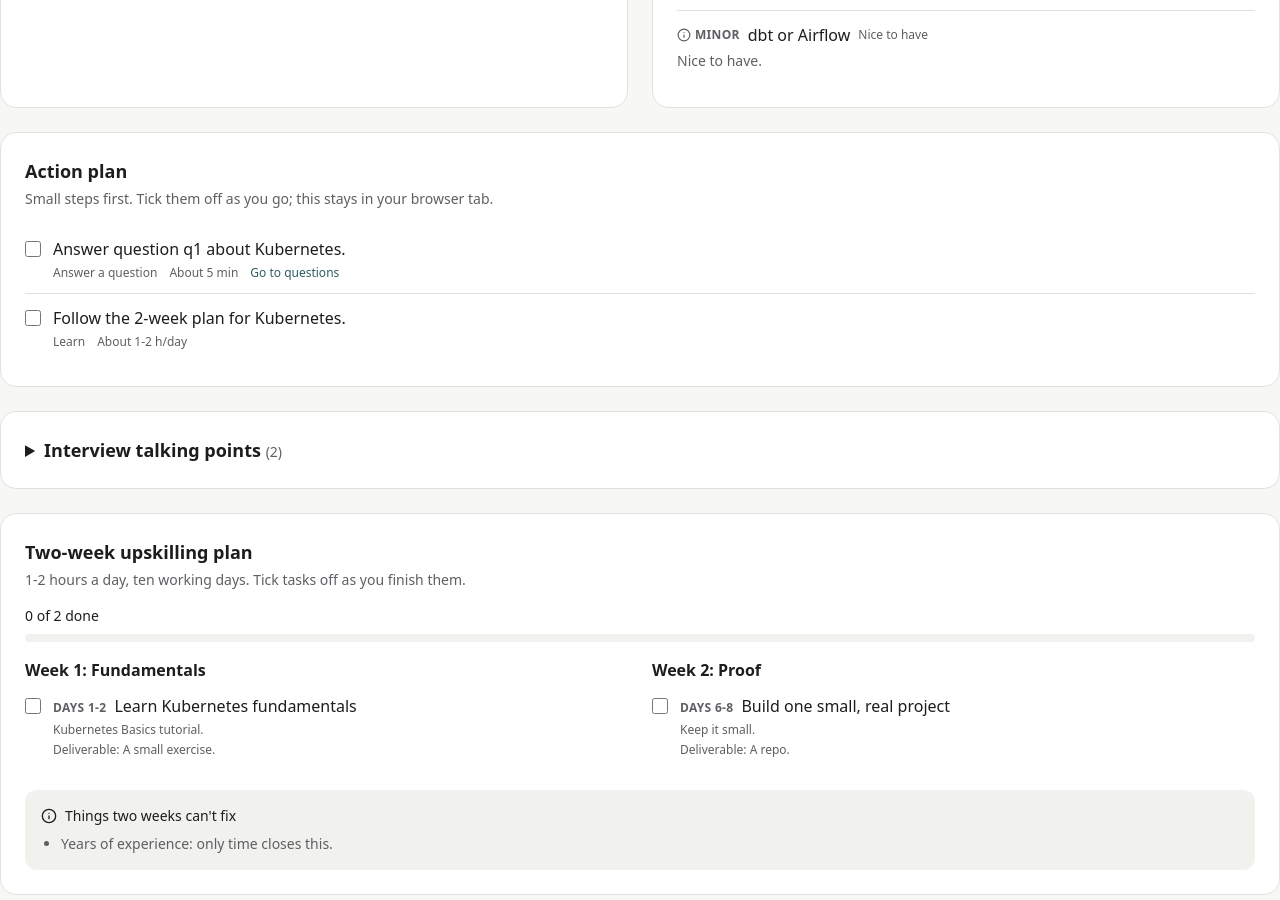
Test: Step 5: mentor page › talking points are collapsed until opened
(page scrolled)
Click the heading "Interview talking points (2)". click: (163, 450)
box: x1=44 y1=438 x2=282 y2=462
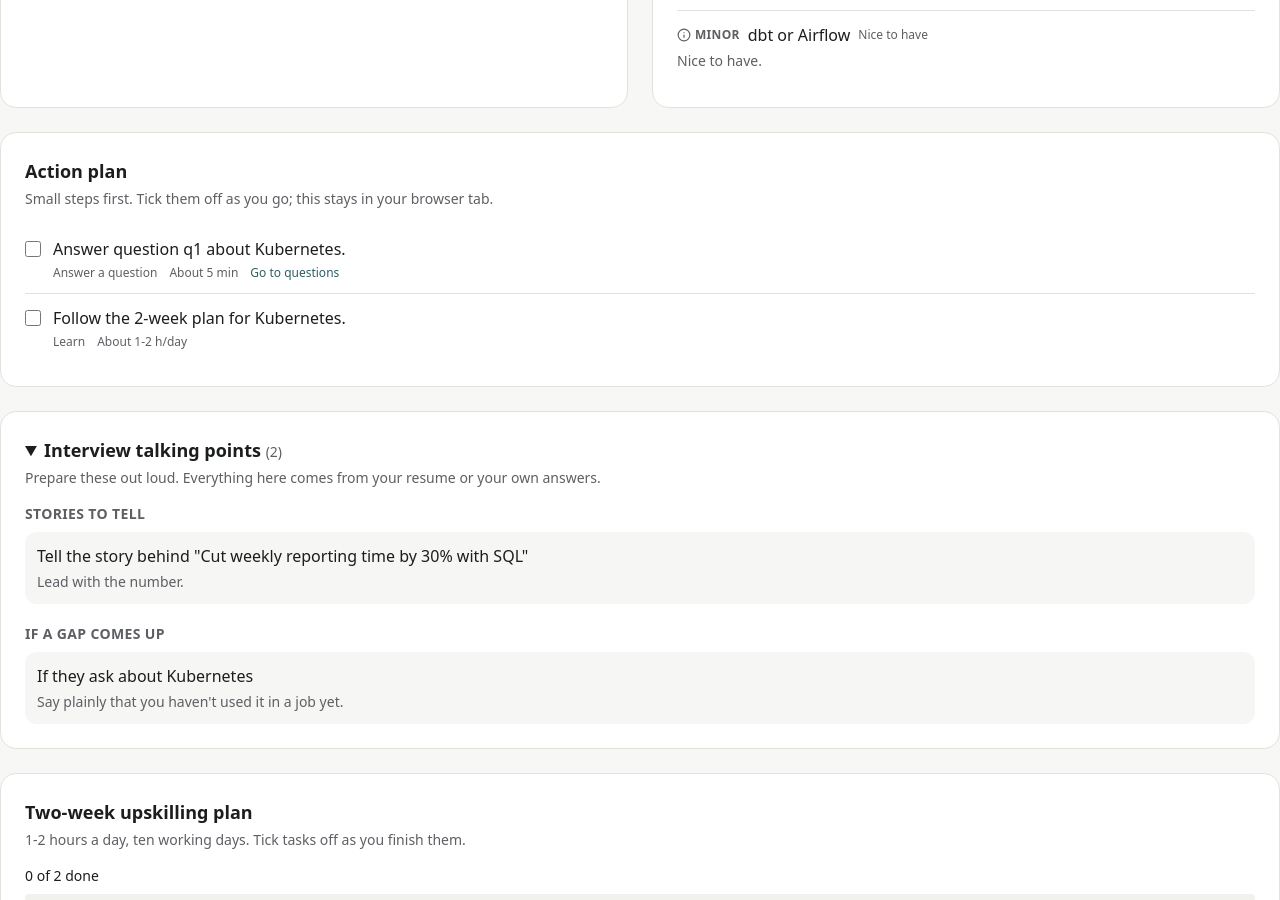
Expected: the heading "Stories to tell" is shown, x1=25 y1=504 x2=145 y2=523
Expected: the text "Say plainly that you haven't used it in a job yet." is shown, x1=37 y1=692 x2=344 y2=711
